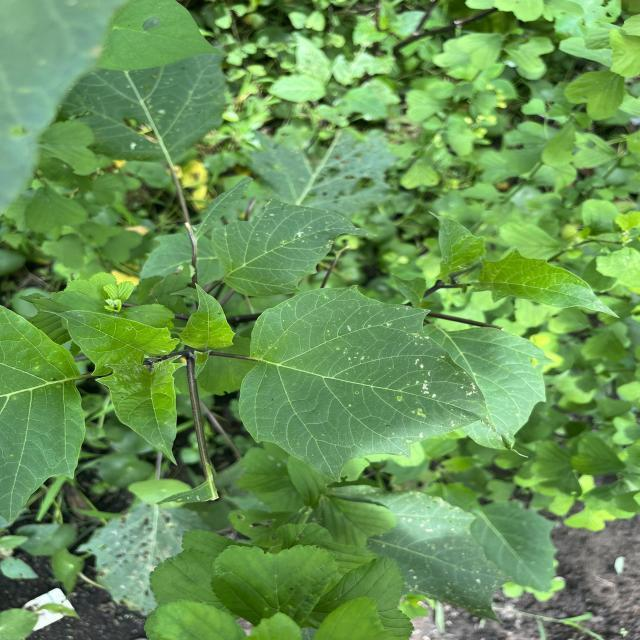Datura metal linn: (235, 282, 530, 484), (467, 244, 621, 322), (90, 352, 190, 468), (38, 306, 182, 378)
